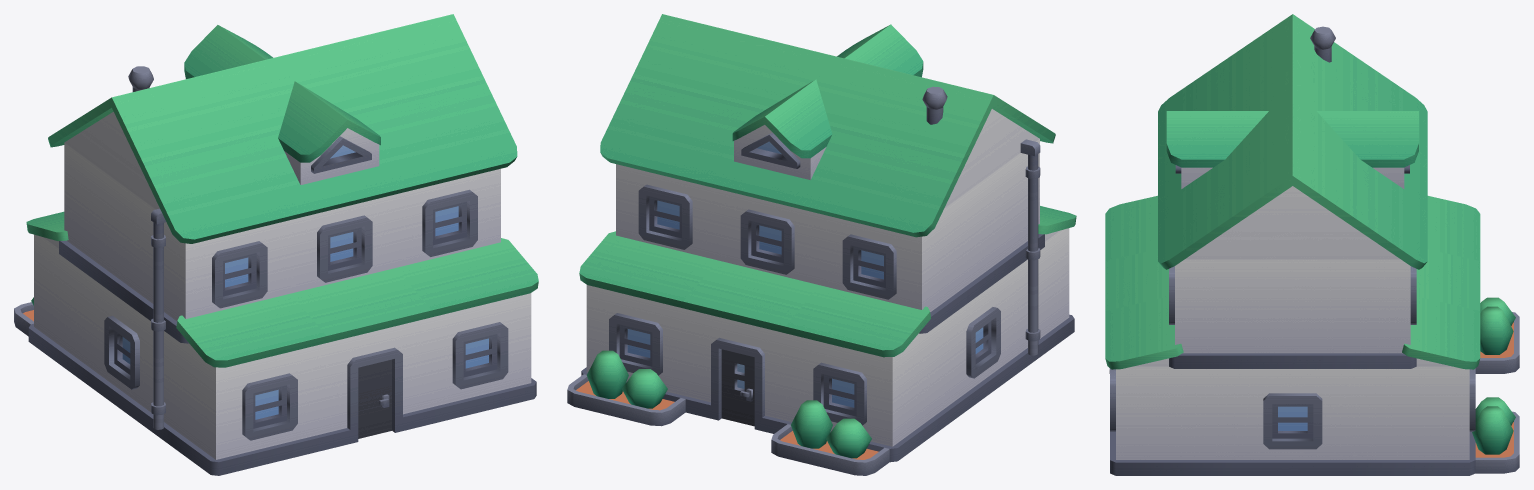
The model's file is building-type-t.glb.
3 renders of one model, left to right at view 1: azimuth 30°, elevation 25°; view 2: azimuth 150°, elevation 25°; view 3: azimuth 270°, elevation 25°, orthographic. The views are drawn at different scales.
Visible parts, largest first — view 1: building-type-t; view 2: building-type-t; view 3: building-type-t.
Boxes of the visible parts, <box> form: building-type-t: <box>14,14,538,475</box>; building-type-t: <box>567,14,1076,475</box>; building-type-t: <box>1105,14,1519,475</box>.
Bounding box in the file's own units: 1.31 × 1.16 × 1.41.
Materials: 1 (1 with a texture image).
